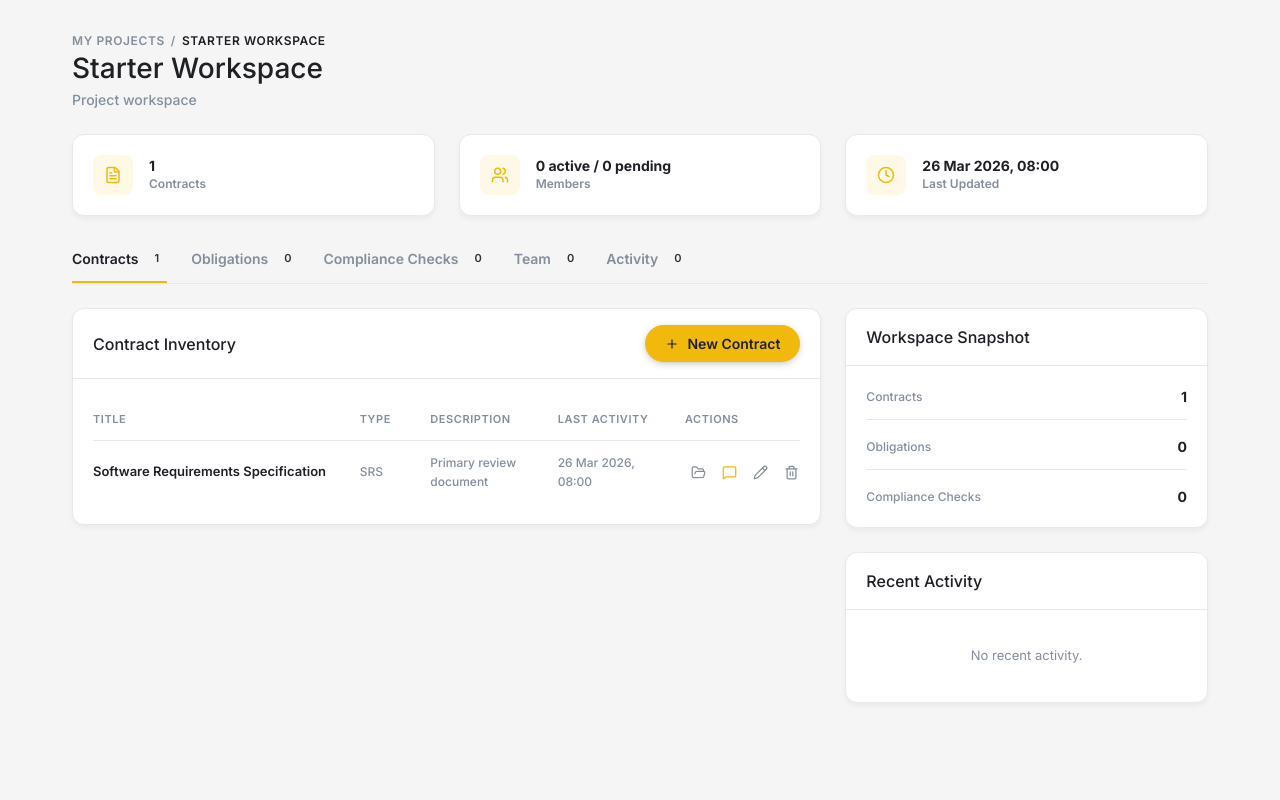
Test: ProjectDetailPage › deletes a document after confirmation and removes it from the project inventory
The width and height of the screenshot is (1280, 800).
Check: the link "Software Requirements Specification" is shown, box [93,463,326,479]
Step 1. Click the button named "delete" → [792, 472], box [778,458,805,486]
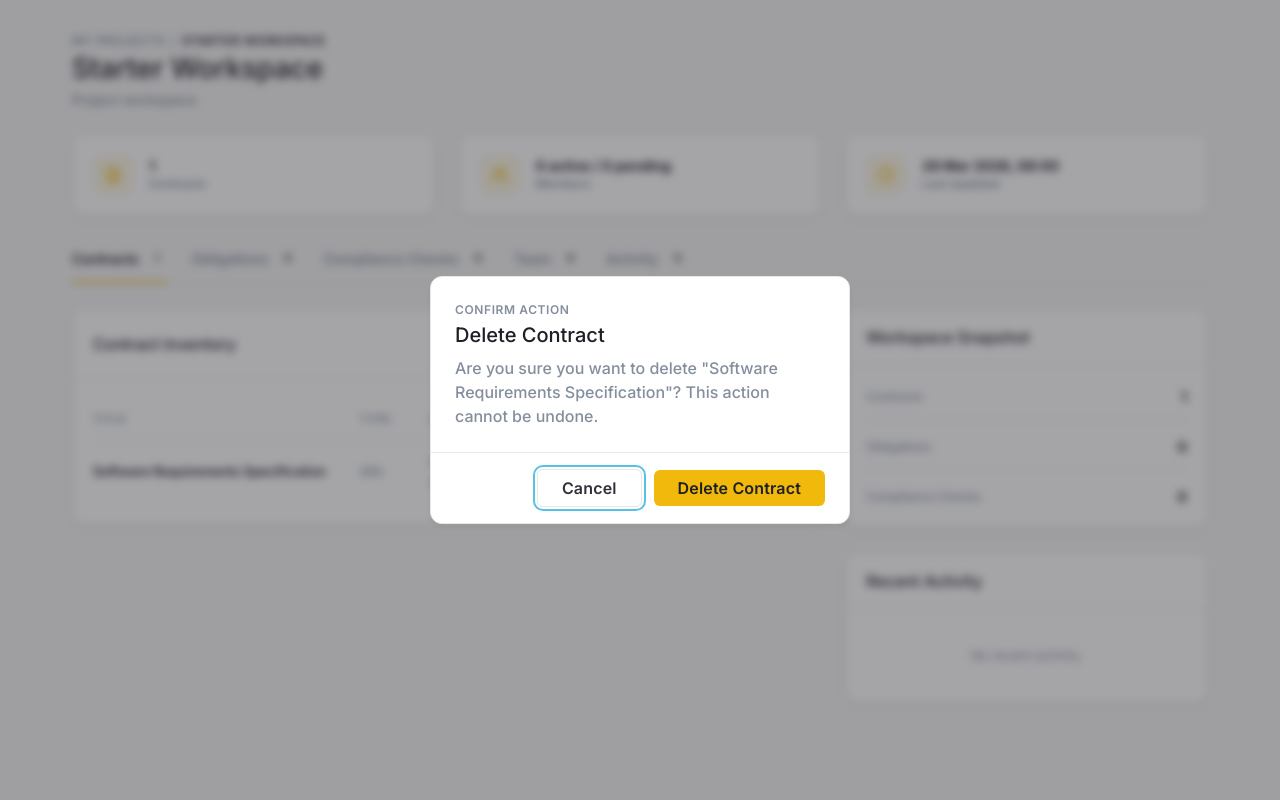
Check: the dialog "Delete Contract" is shown, box [430,276,850,524]
Step 2. Click the button "Delete Contract" → [739, 488], box [654,470,825,506]
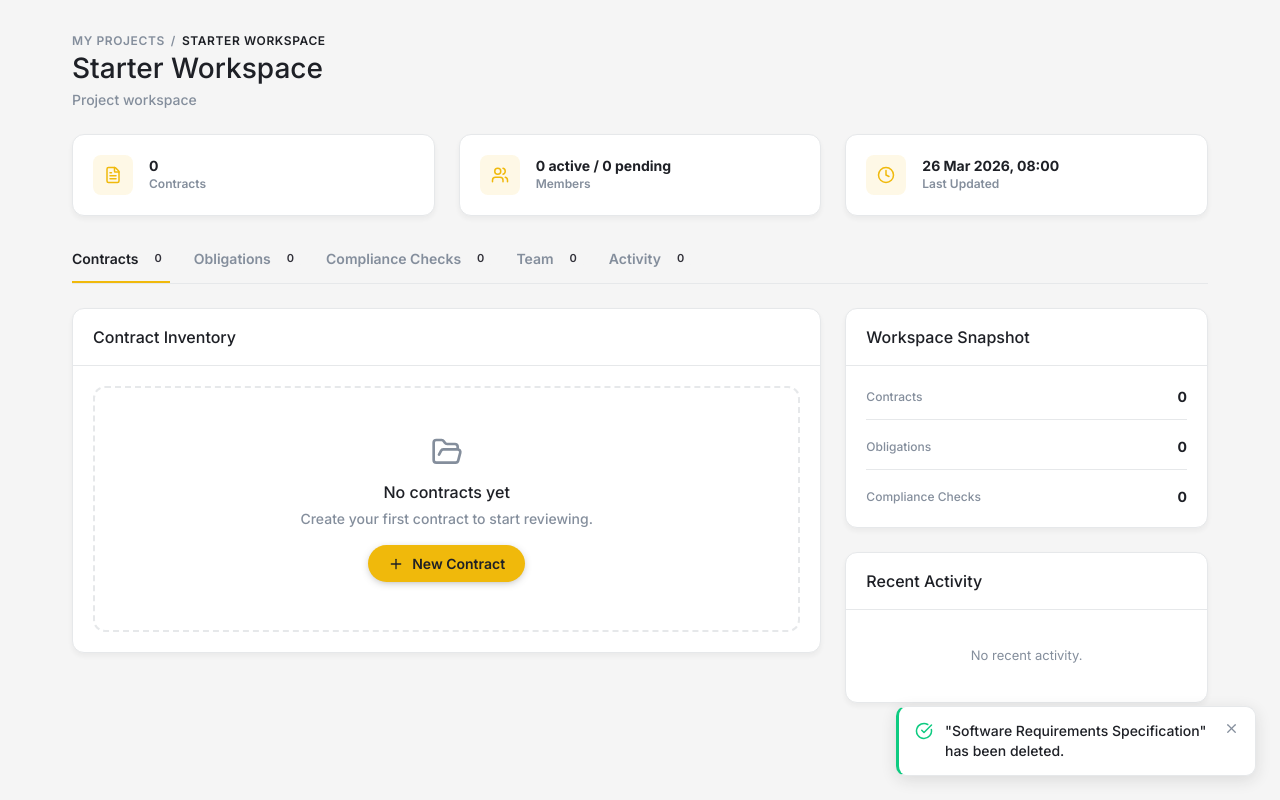
Check: the heading "No contracts yet" is shown, box [383,480,510,504]
